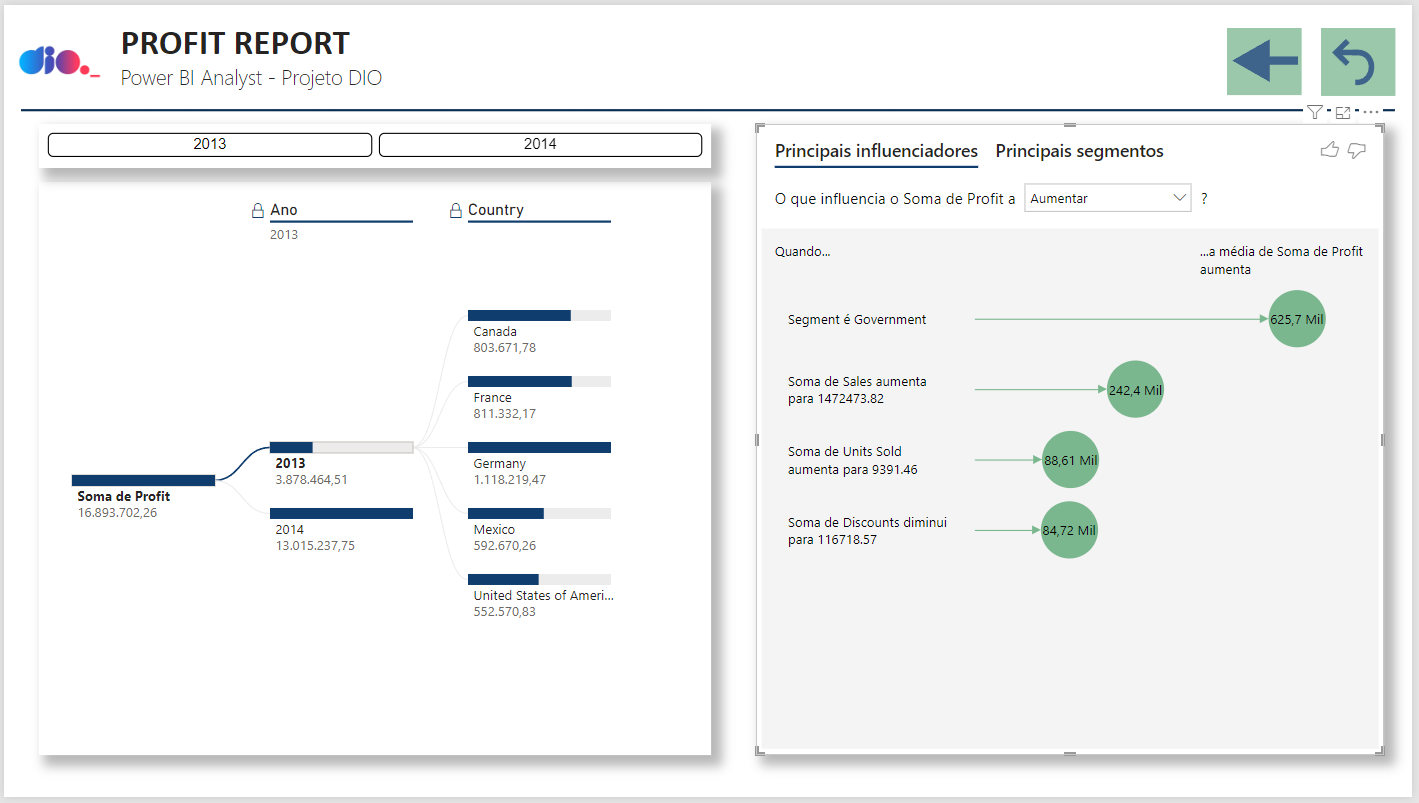

Layout of this report page (visuals, bound fields, positions):
{"tool":"powerbi","page":{"name":"Profit 2","canvas":[1280,720],"ordinal":2},"visuals":[{"type":"image","box":[0,0,101.1,103.3],"z":0},{"type":"shape","box":[1112.1,20.7,67.9,61.4],"z":0,"group":"g1"},{"type":"shape","box":[1197.1,20.7,67.6,61.8],"z":0,"group":"g2"},{"type":"actionButton","box":[1200.8,25.2,60,52.3],"z":500,"group":"g2"},{"type":"textbox","box":[101,9,378,80],"z":1000},{"type":"decompositionTreeVisual","fields":{"Analyze":["Sum(financials.Profit)"],"ExplainBy":["financials.Date.Variation.Hierarquia de datas.Ano","financials.Country"]},"box":[31.8,160.7,611.1,520.7],"z":2000},{"type":"keyDriversVisual","fields":{"ExplainBy":["financials.Segment","Sum(financials. Sales)","Sum(financials.COGS)","financials.Date.Variation.Hierarquia de datas.Ano","financials.Date.Variation.Hierarquia de datas.Trimestre","financials.Date.Variation.Hierarquia de datas.Mês","financials.Date.Variation.Hierarquia de datas.Dia","Sum(financials.Discounts)","Sum(financials.Units Sold)"],"Target":["financials.Profit"]},"box":[683.9,108.4,570.7,573.5],"z":3000},{"type":"ChicletSlicer1448559807354","fields":{"Category":["financials.Date.Variation.Hierarquia de datas.Ano"]},"box":[31.8,108.2,611.1,39.7],"z":4000},{"type":"shape","box":[15,84,1249,24],"z":5000},{"type":"group","id":"g1","title":"Grupo 1","box":[1112.1,20.7,67.9,61.4],"z":6000},{"type":"group","id":"g2","title":"Grupo 1","box":[1197.1,20.7,67.1,61.4],"z":7000},{"type":"shape","box":[1116.4,30.7,60,39.3],"z":10000,"group":"g1"}]}

Visuals, with their boxes in screenshot pixels (x1, y1, x2, y2), scaled from the page's 1280x720 canvas onto the 1419x803 screenshot:
image: x1=0, y1=0, x2=112, y2=115
shape: x1=1233, y1=23, x2=1308, y2=92
shape: x1=1327, y1=23, x2=1402, y2=92
actionButton: x1=1331, y1=28, x2=1398, y2=86
textbox: x1=112, y1=10, x2=531, y2=99
decompositionTreeVisual - Sum(financials.Profit) x financials.Date.Variation.Hierarquia de datas.Ano: x1=35, y1=179, x2=713, y2=760
keyDriversVisual - financials.Segment x Sum(financials. Sales): x1=758, y1=121, x2=1391, y2=761
ChicletSlicer1448559807354 - financials.Date.Variation.Hierarquia de datas.Ano: x1=35, y1=121, x2=713, y2=165
shape: x1=17, y1=94, x2=1401, y2=120
"Grupo 1" group: x1=1233, y1=23, x2=1308, y2=92
"Grupo 1" group: x1=1327, y1=23, x2=1401, y2=92
shape: x1=1238, y1=34, x2=1304, y2=78
